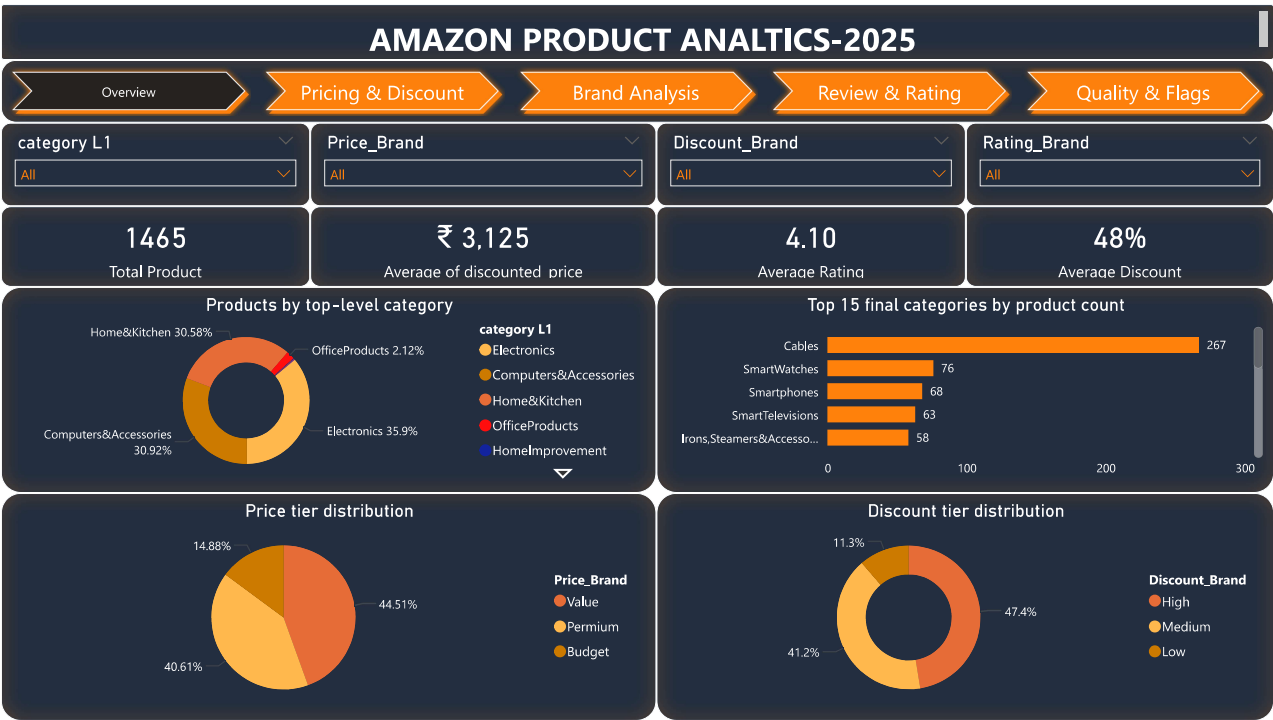

The dashboard page shown, as its layout file describes it:
{"tool":"powerbi","page":{"name":"Overview","canvas":[1280,720],"ordinal":0},"visuals":[{"type":"slicer","fields":{"Values":["amazon_cleaned.category L1"]},"box":[0,118.6,311.4,84.3],"z":0},{"type":"slicer","fields":{"Values":["amazon_cleaned.Price_Brand"]},"box":[311.4,118.6,347.1,84.3],"z":1000},{"type":"slicer","fields":{"Values":["amazon_cleaned.Discount_Brand"]},"box":[658.6,118.6,311.4,84.3],"z":2000},{"type":"slicer","fields":{"Values":["amazon_cleaned.Rating_Brand"]},"box":[970,118.6,310,84.3],"z":3000},{"type":"card","title":"Total_Products","fields":{"Values":["CountNonNull(amazon_cleaned.product_id)"]},"box":[0,202.3,311.6,81.4],"z":4000},{"type":"card","fields":{"Values":["Avg(amazon_cleaned.discounted_price)"]},"box":[311.4,202.9,347.1,81.4],"z":5000},{"type":"card","fields":{"Values":["Avg(amazon_cleaned.rating)"]},"box":[658.6,202.9,311.4,81.4],"z":6000},{"type":"card","fields":{"Values":["Avg(amazon_cleaned.discount_percentage)"]},"box":[970,202.9,310,81.4],"z":7000},{"type":"donutChart","title":"Products by top-level category","fields":{"Category":["amazon_cleaned.category L1"],"Y":["CountNonNull(amazon_cleaned.product_id)"]},"box":[0,284.3,658.6,207.1],"z":8000},{"type":"clusteredBarChart","title":"Top 15 final categories by product count","fields":{"Category":["amazon_cleaned.Final_Category"],"Y":["CountNonNull(amazon_cleaned.product_id)"]},"box":[658.6,284.3,621.4,207.1],"z":9000},{"type":"pieChart","title":"Price tier distribution","fields":{"Category":["amazon_cleaned.Price_Brand"],"Y":["CountNonNull(amazon_cleaned.product_id)"]},"box":[0,491.4,658.6,228.6],"z":10000},{"type":"donutChart","title":"Discount tier distribution","fields":{"Category":["amazon_cleaned.Discount_Brand"],"Y":["CountNonNull(amazon_cleaned.product_id)"]},"box":[658.6,491.4,621.4,228.6],"z":11000},{"type":"textbox","box":[0,0,1280,55.7],"z":12000},{"type":"pageNavigator","box":[0,55.7,1280,62.9],"z":13000},{"type":"actionButton","box":[0,0,100,40],"z":13001}]}

Visuals, with their boxes in screenshot pixels (x1, y1, x2, y2), scaled from the page's 1280x720 canvas onto the 1273x720 screenshot:
slicer - amazon_cleaned.category L1: x1=0 y1=119 x2=310 y2=203
slicer - amazon_cleaned.Price_Brand: x1=310 y1=119 x2=655 y2=203
slicer - amazon_cleaned.Discount_Brand: x1=655 y1=119 x2=965 y2=203
slicer - amazon_cleaned.Rating_Brand: x1=965 y1=119 x2=1272 y2=203
"Total_Products" card: x1=0 y1=202 x2=310 y2=284
card - Avg(amazon_cleaned.discounted_price): x1=310 y1=203 x2=655 y2=284
card - Avg(amazon_cleaned.rating): x1=655 y1=203 x2=965 y2=284
card - Avg(amazon_cleaned.discount_percentage): x1=965 y1=203 x2=1272 y2=284
"Products by top-level category" donutChart: x1=0 y1=284 x2=655 y2=491
"Top 15 final categories by product count" clusteredBarChart: x1=655 y1=284 x2=1272 y2=491
"Price tier distribution" pieChart: x1=0 y1=491 x2=655 y2=719
"Discount tier distribution" donutChart: x1=655 y1=491 x2=1272 y2=719
textbox: x1=0 y1=0 x2=1272 y2=56
pageNavigator: x1=0 y1=56 x2=1272 y2=119
actionButton: x1=0 y1=0 x2=99 y2=40
